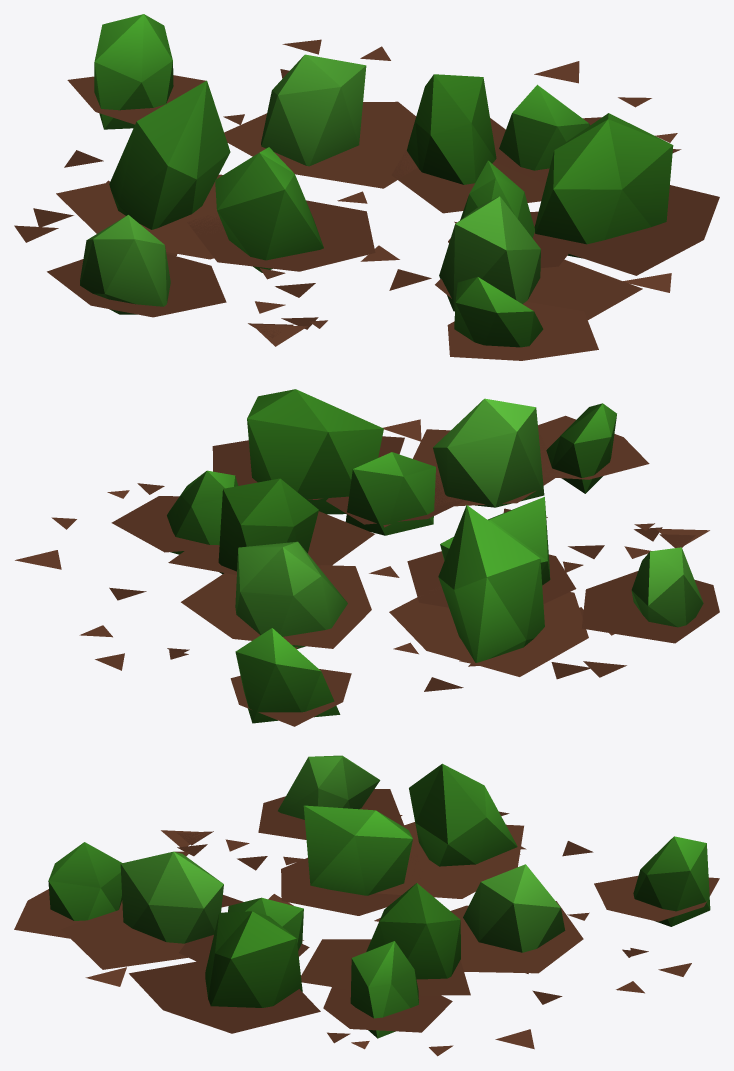
The model's file is uranium-ore.glb.
3 renders of one model, top to bottom at view 1: azimuth 30°, elevation 25°; view 2: azimuth 150°, elevation 25°; view 3: azimuth 270°, elevation 25°, orthographic. The views are drawn at different scales.
Parts seen in each view (by area): view 1: uranium-ore; view 2: uranium-ore; view 3: uranium-ore.
Part boxes in pixels (bbox=[...]): uranium-ore: bbox=[14, 14, 719, 360]; uranium-ore: bbox=[15, 389, 719, 726]; uranium-ore: bbox=[14, 755, 719, 1056].
Bounding box in the file's own units: 1.37 × 0.2916 × 1.53.
